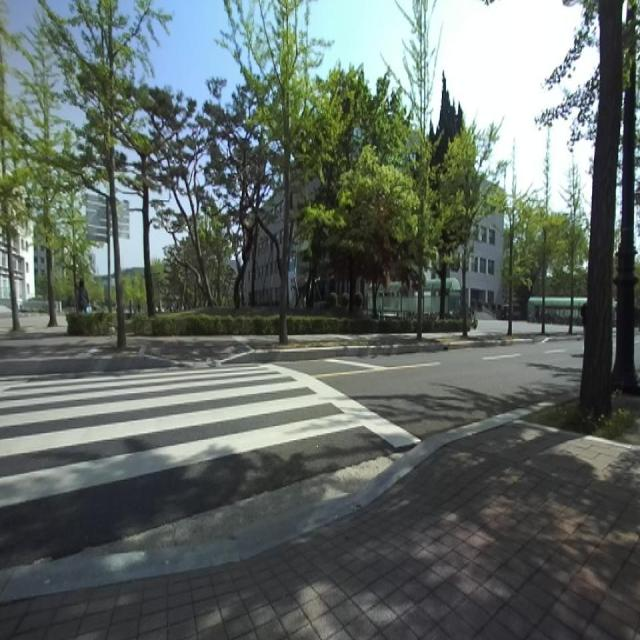sidewalk: (0, 424, 640, 639)
